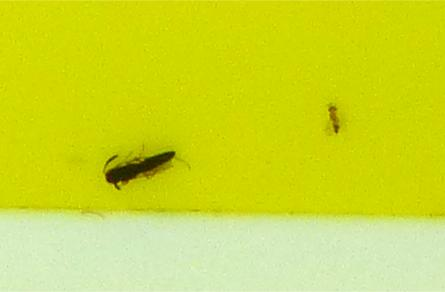Brachycera: (324, 100, 345, 136)
Hymenoptera: (100, 143, 183, 192)
